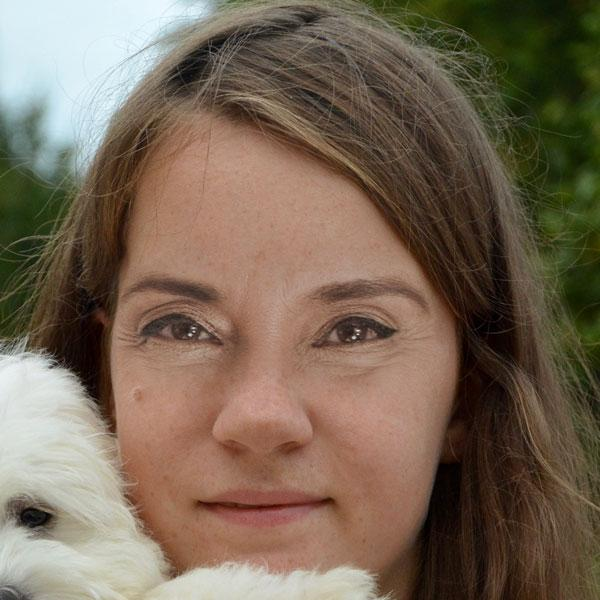Eyes: (304, 301, 404, 365), (131, 294, 228, 358)
